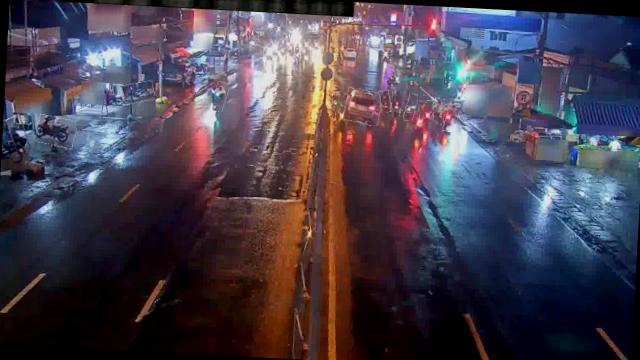Bike: (34, 115, 76, 147), (120, 80, 155, 104), (212, 81, 228, 112), (444, 104, 459, 134), (390, 90, 406, 114), (404, 92, 416, 121), (418, 100, 433, 122), (433, 98, 445, 122), (378, 90, 390, 113), (334, 106, 346, 128), (331, 91, 342, 112), (209, 78, 216, 103)
Car: (343, 88, 382, 124)
